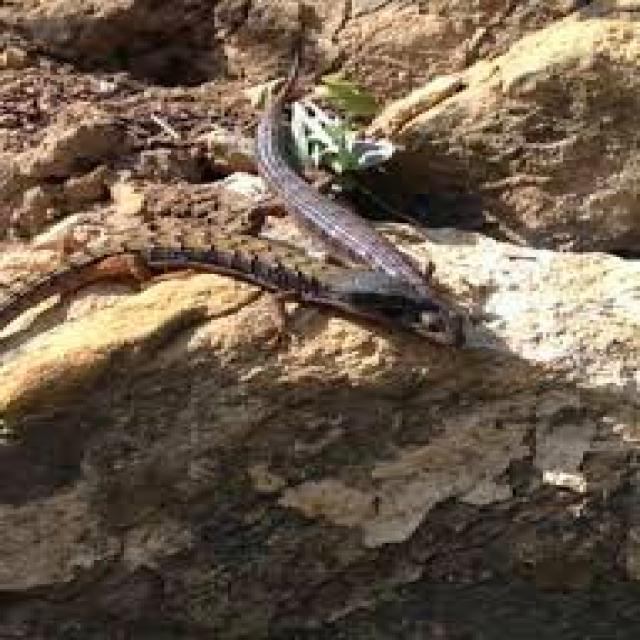lizard: (258, 53, 462, 344), (0, 216, 432, 325)
